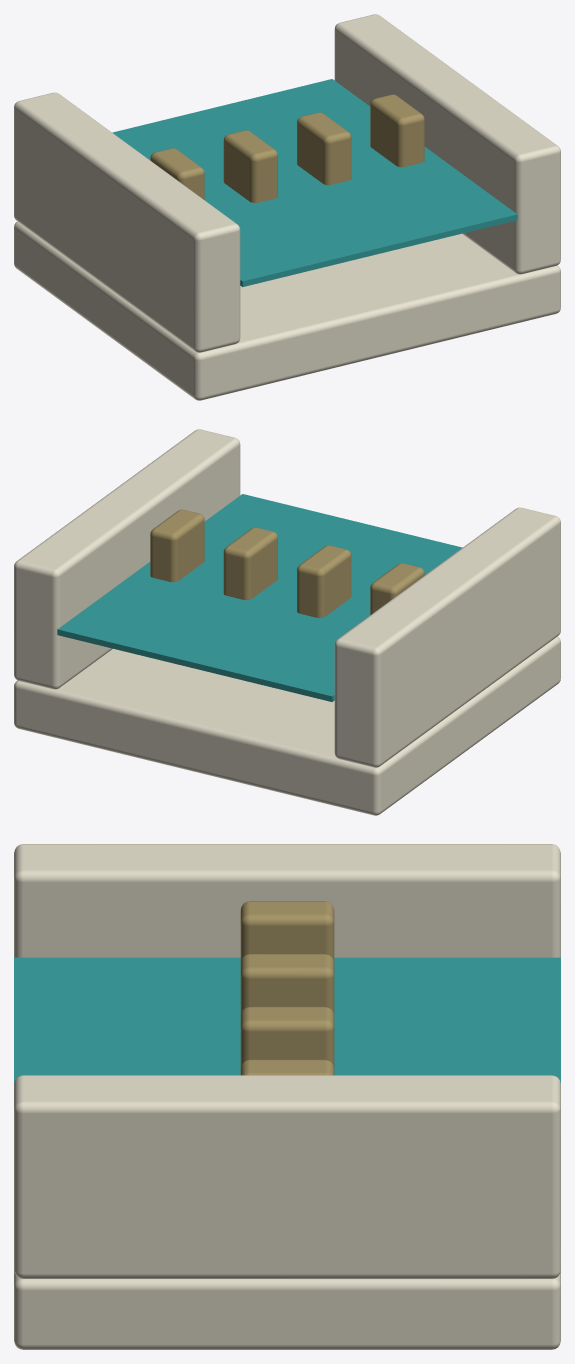
Rendered from water-clock-garden-and-hydraulic-puzzles-slotted-flow--d4d8da22__31946.glb.
3 renders of one model, top to bottom at view 1: azimuth 30°, elevation 25°; view 2: azimuth 150°, elevation 25°; view 3: azimuth 270°, elevation 25°, orthographic. The views are drawn at different scales.
Parts seen in each view (by area): view 1: slotted-flow-divider; view 2: slotted-flow-divider; view 3: slotted-flow-divider.
Boxes of the visible parts, x1=… form: slotted-flow-divider: x1=14, y1=14, x2=560, y2=400; slotted-flow-divider: x1=14, y1=429, x2=560, y2=815; slotted-flow-divider: x1=14, y1=844, x2=560, y2=1349.
Size of the model in its own units: 0.8 by 0.35 by 0.7.
